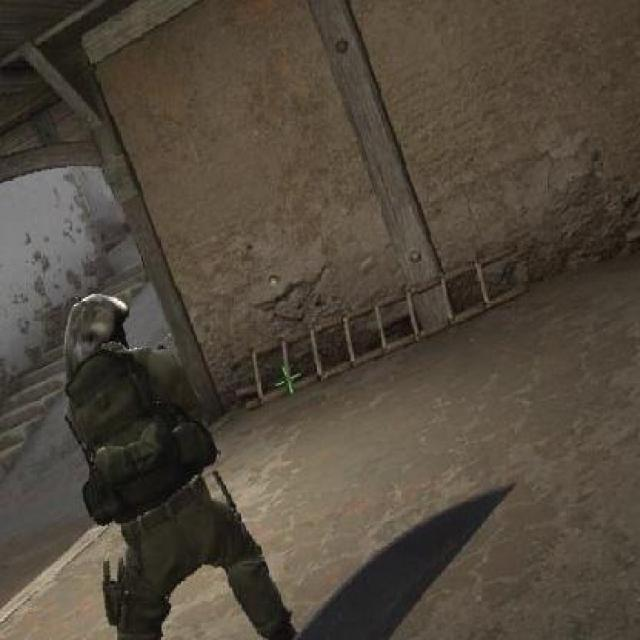CT-Body: (54, 284, 131, 358)
CT-Head: (36, 276, 302, 638)
